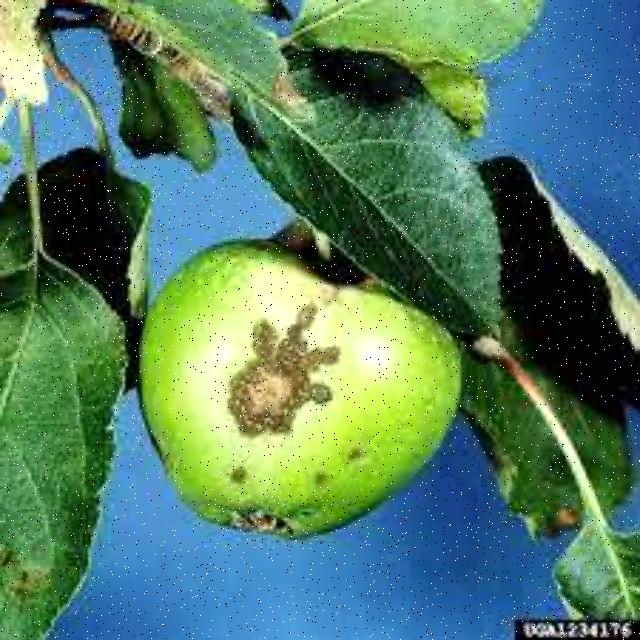SCAB: (139, 212, 482, 564)
